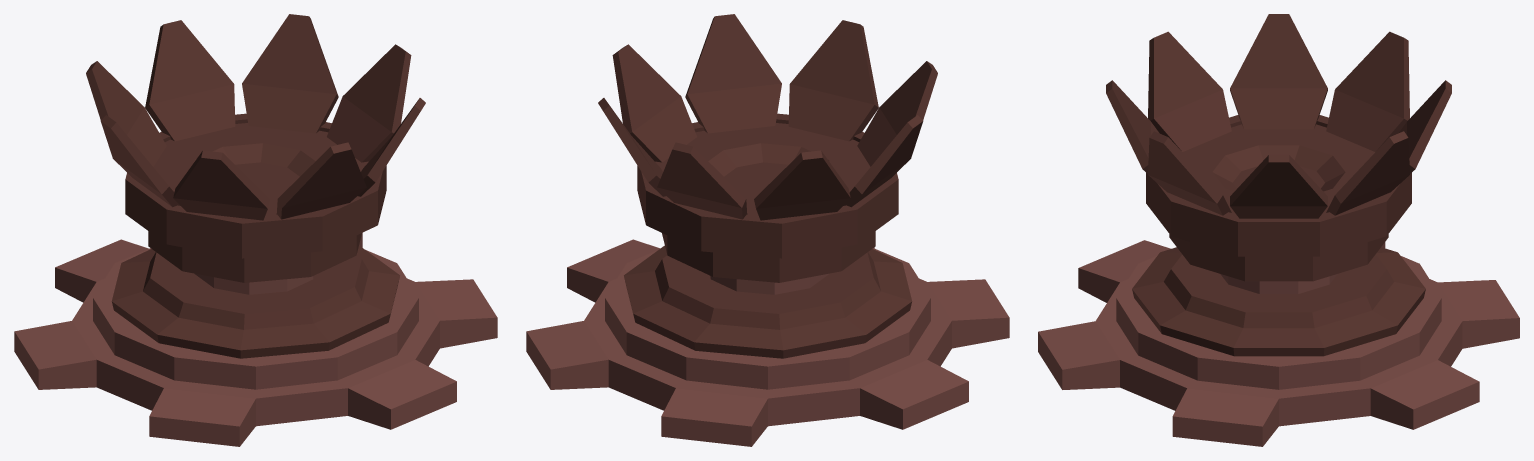
Rendered from teleporter1-7a7e58e039.glb.
The picture shows the model from 3 angles, left to right: view 1: azimuth 30°, elevation 25°; view 2: azimuth 150°, elevation 25°; view 3: azimuth 270°, elevation 25°; orthographic projection.
Visible parts, largest first — view 1: Teleporter1.obj; view 2: Teleporter1.obj; view 3: Teleporter1.obj.
Boxes of the visible parts, box(x1,y1,x2,y2) form: Teleporter1.obj: box(14, 14, 497, 446); Teleporter1.obj: box(526, 14, 1009, 446); Teleporter1.obj: box(1038, 14, 1519, 446).
Size of the model in its own units: 1.38 by 0.8339 by 1.38.
